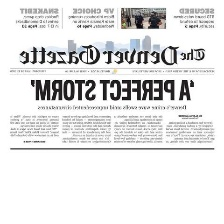news_paper: (6, 1, 218, 150)
